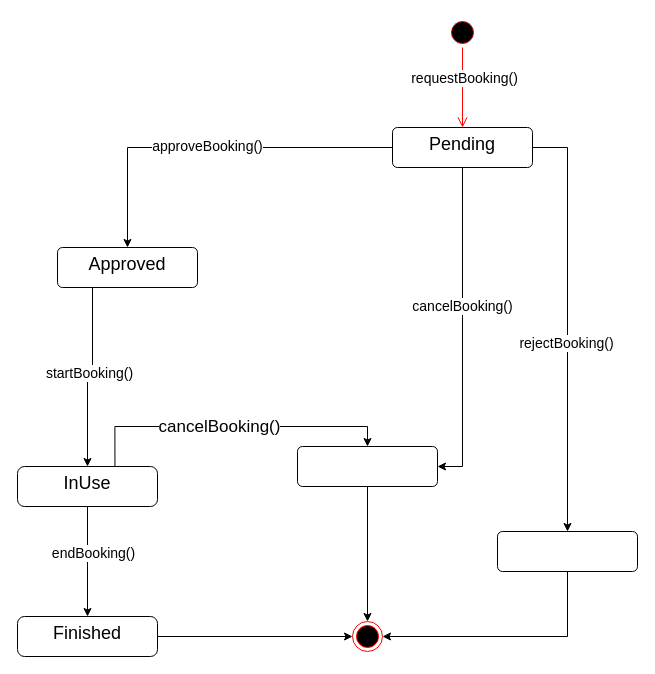
Image size: 655x674. Some labels were removed from this diagram. The centre of each missing label's shape, as x and y in pixels:
Cancelled: (x=367, y=466)
Rejected: (x=567, y=551)
